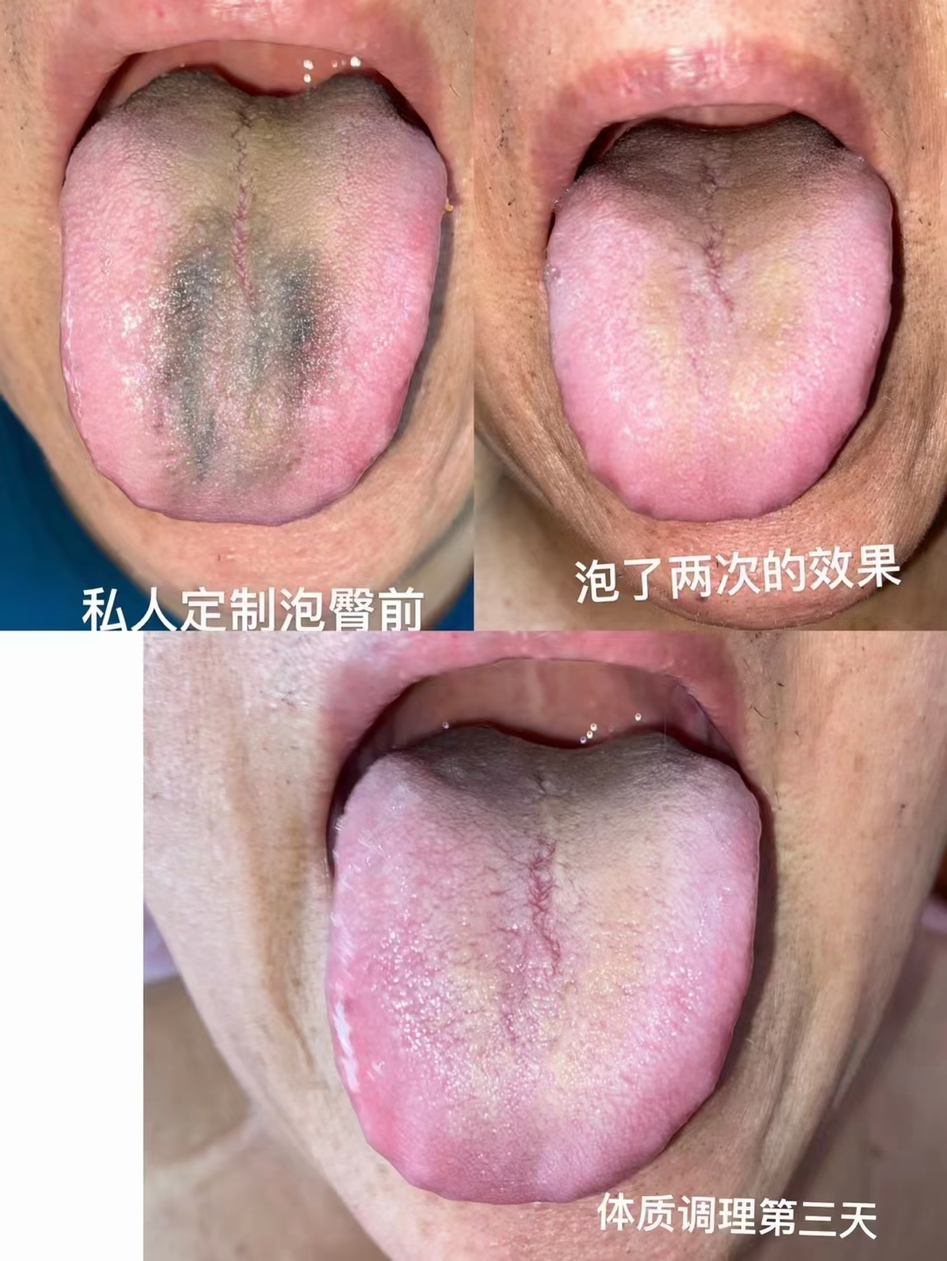heitaishe: (61, 65, 450, 527)
huangtaishe: (331, 725, 761, 1201), (548, 115, 893, 523)
liewenshe: (218, 111, 264, 307), (694, 157, 738, 324), (523, 833, 567, 980)
shenquao: (189, 66, 367, 116)
